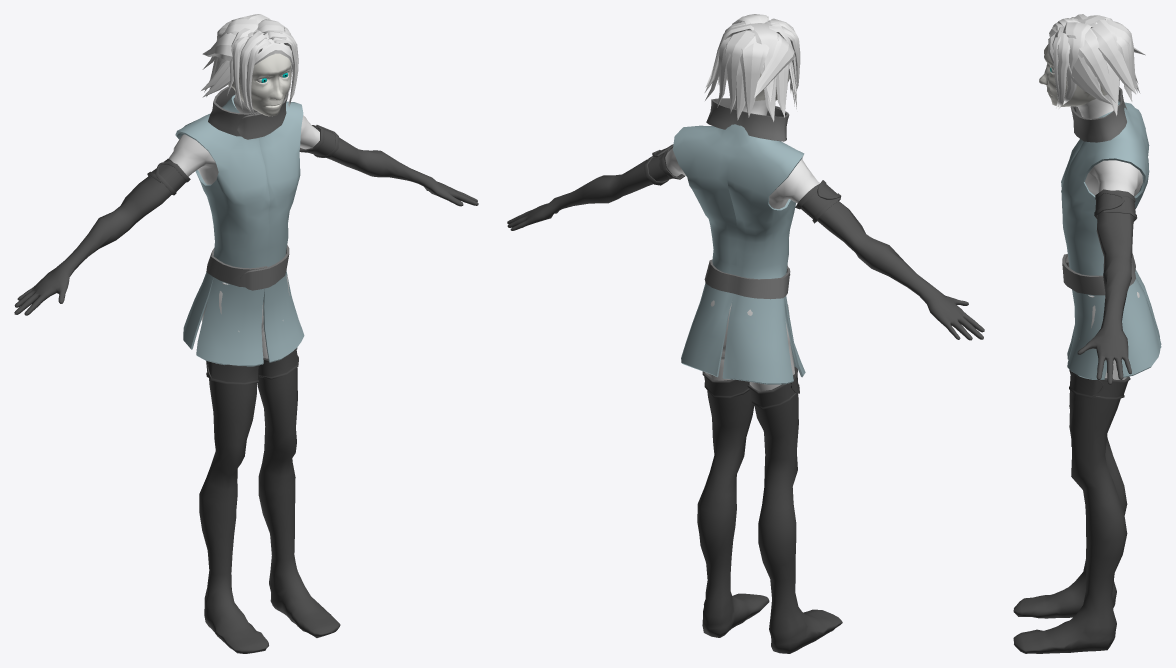
File: TextureTester.fbx
3 views of the same model, side by side, from view 1: azimuth 30°, elevation 25°; view 2: azimuth 150°, elevation 25°; view 3: azimuth 270°, elevation 25° (orthographic). The views are drawn at different scales.
Visible parts, largest first — view 1: polySurface20, polySurface11, polySurface17, polySurface19, polySurface18, polySurface23, polySurface21; view 2: polySurface20, polySurface11, polySurface17, polySurface23, polySurface18, polySurface21, pCylinder14, pCylinder13, pCylinder12, pCylinder11, polySurface22; view 3: polySurface11, polySurface20, polySurface17, polySurface18, polySurface23, pCylinder10, polySurface21, pCylinder9, polySurface19, polySurface28, polySurface32, polySurface26 (+4 smaller).
Part boxes in pixels (left/top/right/bottom): polySurface20: left=175, top=95, right=304, bottom=366; polySurface11: left=199, top=347, right=340, bottom=653; polySurface17: left=14, top=125, right=478, bottom=315; polySurface19: left=228, top=53, right=291, bottom=116; polySurface18: left=168, top=92, right=319, bottom=184; polySurface23: left=208, top=86, right=288, bottom=139; polySurface21: left=206, top=245, right=289, bottom=290; polySurface20: left=672, top=124, right=805, bottom=384; polySurface11: left=697, top=367, right=842, bottom=653; polySurface17: left=507, top=144, right=984, bottom=340; polySurface23: left=706, top=98, right=789, bottom=141; polySurface18: left=665, top=100, right=819, bottom=208; polySurface21: left=704, top=259, right=790, bottom=299; pCylinder14: left=740, top=43, right=769, bottom=117; pCylinder13: left=725, top=30, right=756, bottom=112; pCylinder12: left=754, top=34, right=794, bottom=97; pCylinder11: left=748, top=23, right=779, bottom=102; polySurface22: left=705, top=300, right=794, bottom=391; polySurface11: left=1013, top=370, right=1130, bottom=653; polySurface20: left=1061, top=101, right=1161, bottom=379; polySurface17: left=1077, top=189, right=1137, bottom=384; polySurface18: left=1076, top=94, right=1142, bottom=196; polySurface23: left=1070, top=87, right=1126, bottom=142; pCylinder10: left=1090, top=19, right=1136, bottom=94; polySurface21: left=1062, top=252, right=1135, bottom=295; pCylinder9: left=1077, top=28, right=1116, bottom=102; polySurface19: left=1039, top=44, right=1107, bottom=107; polySurface28: left=1062, top=22, right=1093, bottom=104; polySurface32: left=1067, top=35, right=1112, bottom=104; polySurface26: left=1055, top=26, right=1070, bottom=109.
Size of the model in its own units: 29.06 by 35.92 by 7.89.
